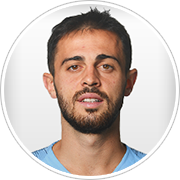smile: (75, 94, 104, 106)
